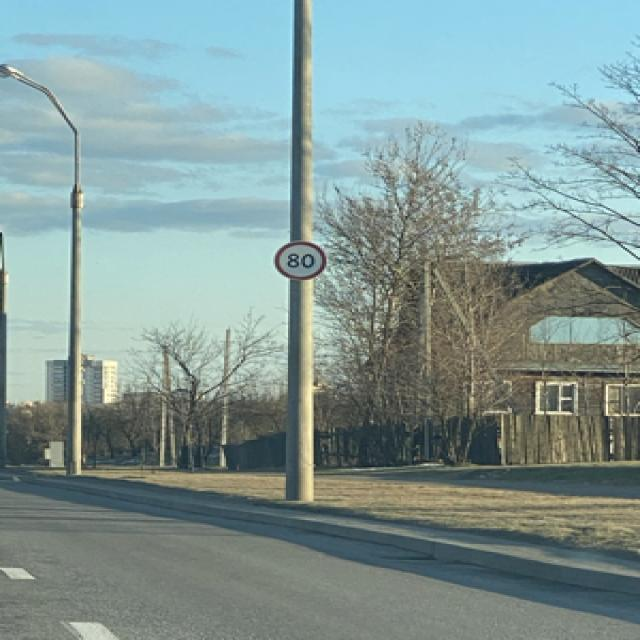speedlimit: (271, 240, 324, 280)
